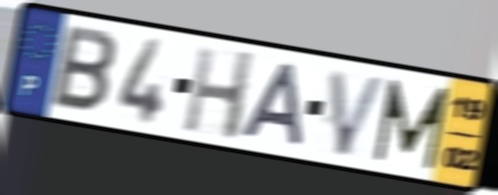4: (115, 35, 168, 128)
A: (238, 59, 307, 150)
B: (47, 21, 119, 116)
H: (180, 44, 258, 144)
M: (371, 76, 453, 173)
V: (327, 66, 391, 160)
